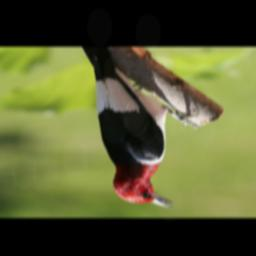Woodpecker: (79, 47, 182, 210)
